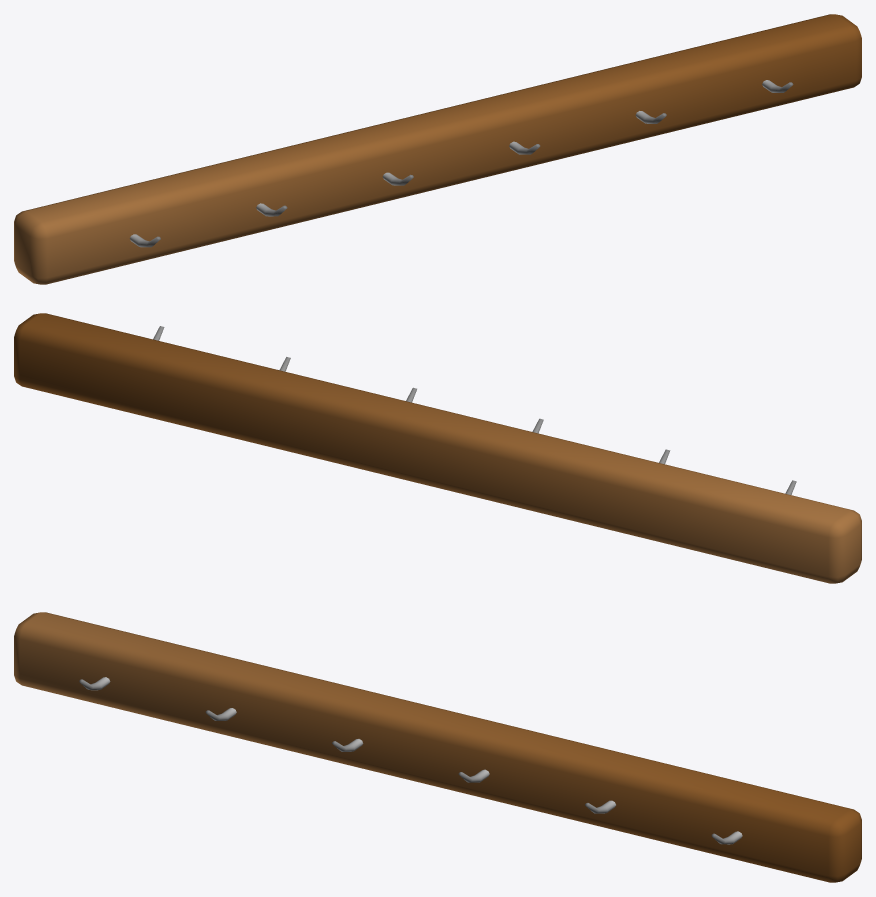
The model's file is Utensil Rack.fbx.
3 renders of one model, top to bottom at view 1: azimuth 30°, elevation 25°; view 2: azimuth 150°, elevation 25°; view 3: azimuth 330°, elevation 25°, orthographic.
Visible parts, largest first — view 1: Utensil Rack; view 2: Utensil Rack; view 3: Utensil Rack.
Part boxes in pixels (bbox=[...]): Utensil Rack: bbox=[14, 14, 861, 284]; Utensil Rack: bbox=[14, 313, 861, 583]; Utensil Rack: bbox=[14, 612, 861, 882].
Bounding box in the file's own units: 0.7451 × 0.0536 × 0.0831.
